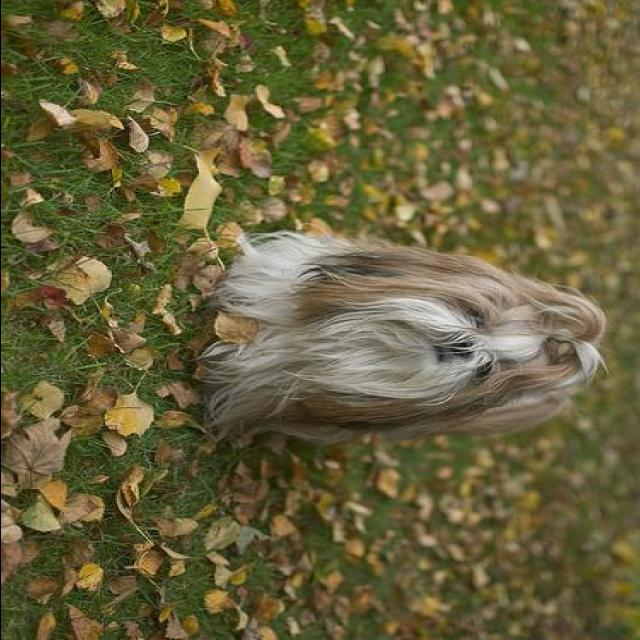shih_tzu: (207, 237, 602, 443)
